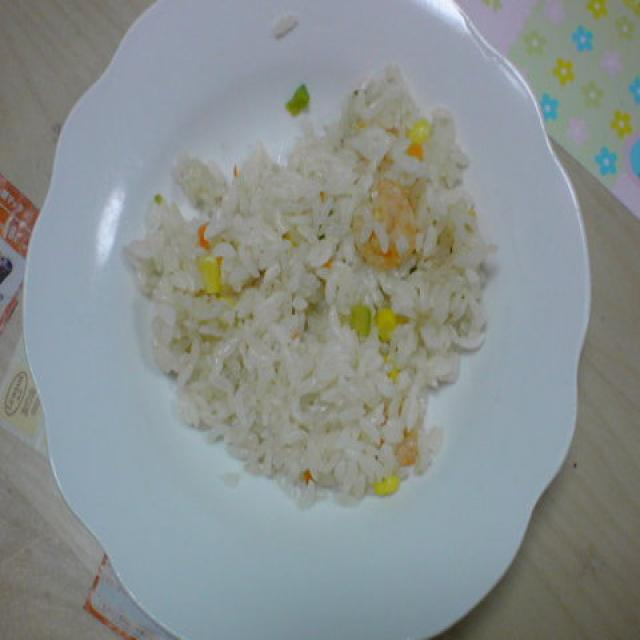米饭主食: (133, 55, 492, 517)
